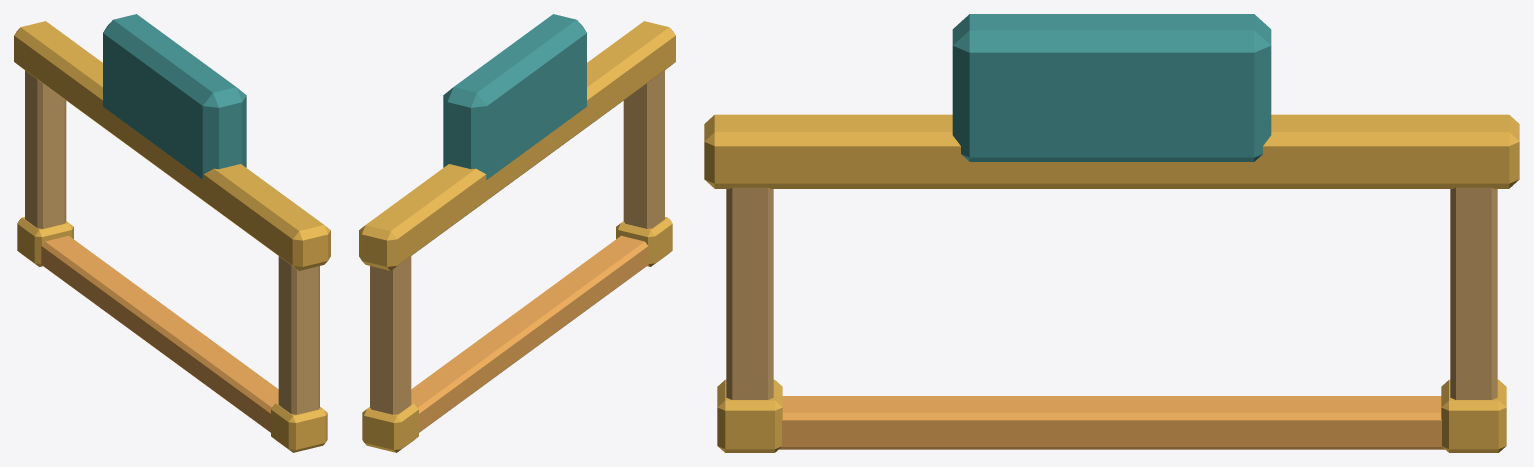
The model's file is SM_Pinball_Gate.fbx.
3 views of the same model, side by side, from view 1: azimuth 30°, elevation 25°; view 2: azimuth 150°, elevation 25°; view 3: azimuth 270°, elevation 25° (orthographic). The views are drawn at different scales.
Parts seen in each view (by area): view 1: SM_Pinball_Gate; view 2: SM_Pinball_Gate; view 3: SM_Pinball_Gate.
Part boxes in pixels (bbox=[...]): SM_Pinball_Gate: bbox=[14, 14, 330, 452]; SM_Pinball_Gate: bbox=[359, 14, 675, 452]; SM_Pinball_Gate: bbox=[704, 14, 1519, 452].
Size of the model in its own units: 15 by 169 by 96.5.
